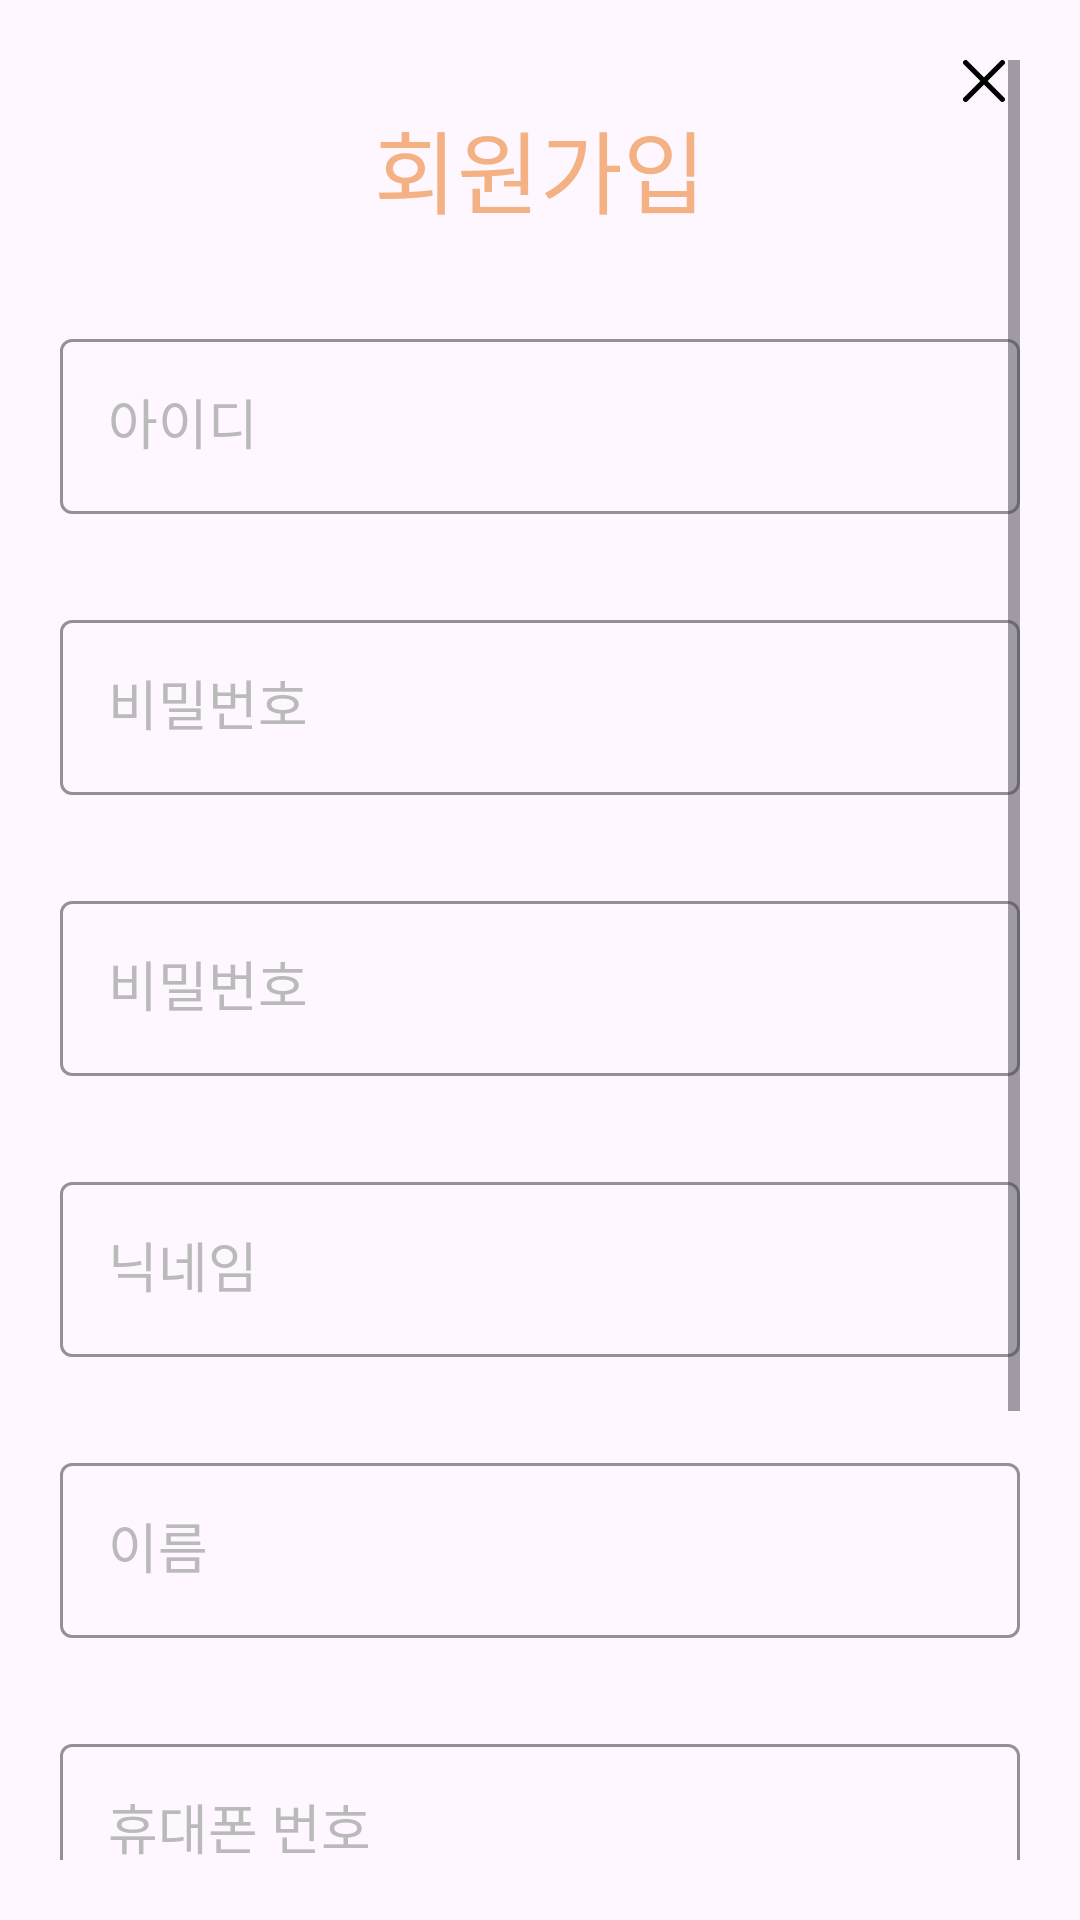

Icon bounding boxes for this 1080×1920 phone screenshot, format {"left": x1, "top": y1, "right": x2, "bottom": y2}:
close: {"left": 963, "top": 60, "right": 1005, "bottom": 102}
